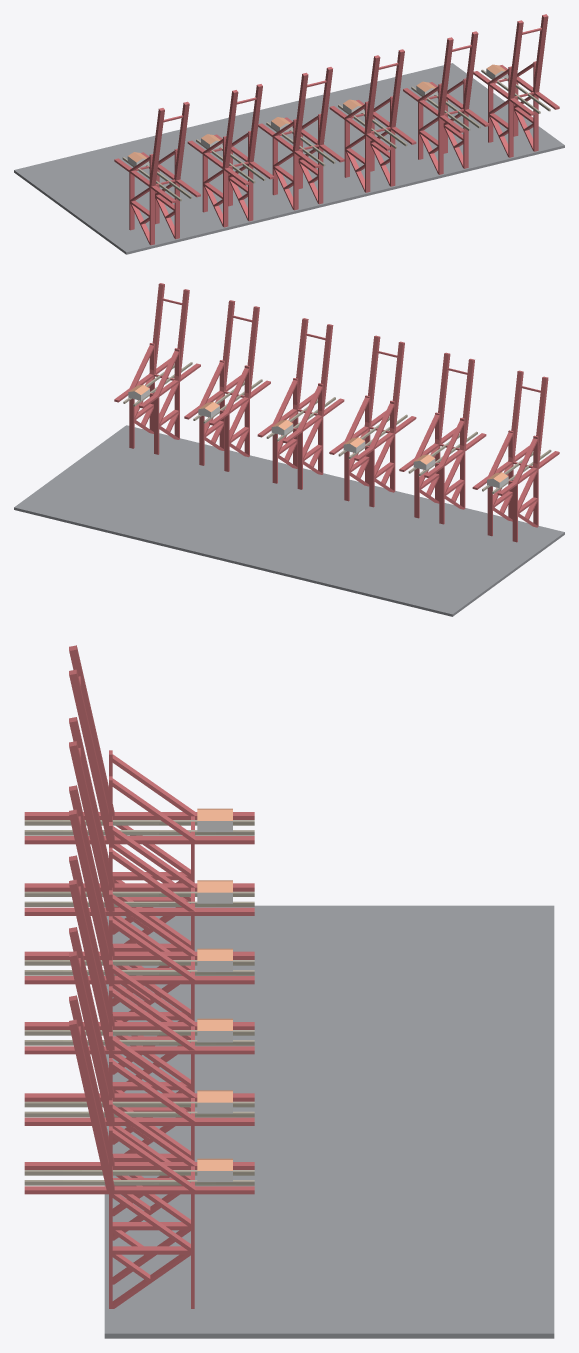
File: matou.gltf
The picture shows the model from 3 angles, top to bottom: view 1: azimuth 30°, elevation 25°; view 2: azimuth 150°, elevation 25°; view 3: azimuth 270°, elevation 25°; orthographic projection. The views are drawn at different scales.
Parts seen in each view (by area): view 1: matou; view 2: matou; view 3: matou.
Boxes of the visible parts, x1=… form: matou: x1=14, y1=14, x2=564, y2=254; matou: x1=14, y1=283, x2=564, y2=616; matou: x1=24, y1=645, x2=554, y2=1338.
Bounding box in the file's own units: 20023 × 6325 × 10476.
5 materials, 1 textured.
